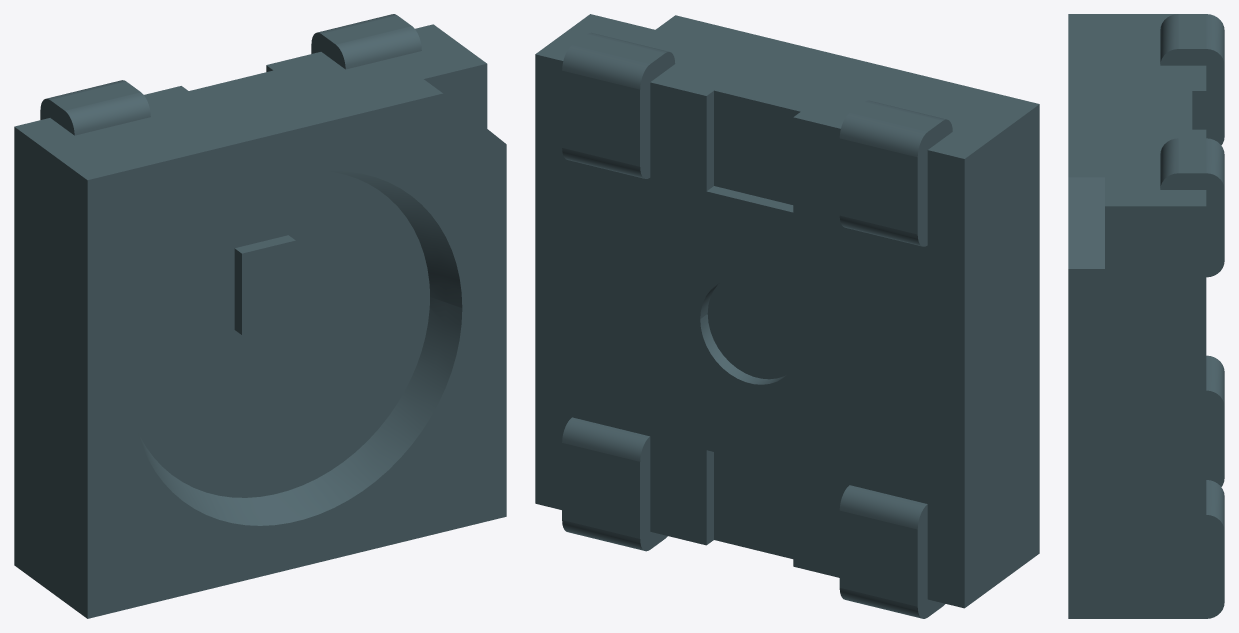
File: led.obj
3 views of the same model, side by side, from view 1: azimuth 30°, elevation 25°; view 2: azimuth 150°, elevation 25°; view 3: azimuth 270°, elevation 25° (orthographic). The views are drawn at different scales.
Visible parts, largest first — view 1: empty_2; view 2: empty_2; view 3: empty_2.
Boxes of the visible parts, <box> form: empty_2: <box>14,14,506,618</box>; empty_2: <box>535,14,1039,618</box>; empty_2: <box>1068,14,1224,618</box>.
Bounding box in the file's own units: 4.95 × 5.35 × 1.7.
